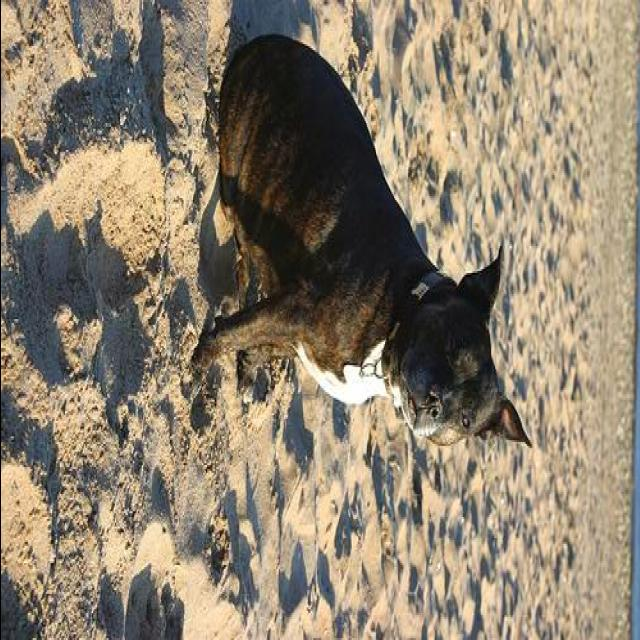staffordshire_bullterrier: (188, 31, 534, 450)
